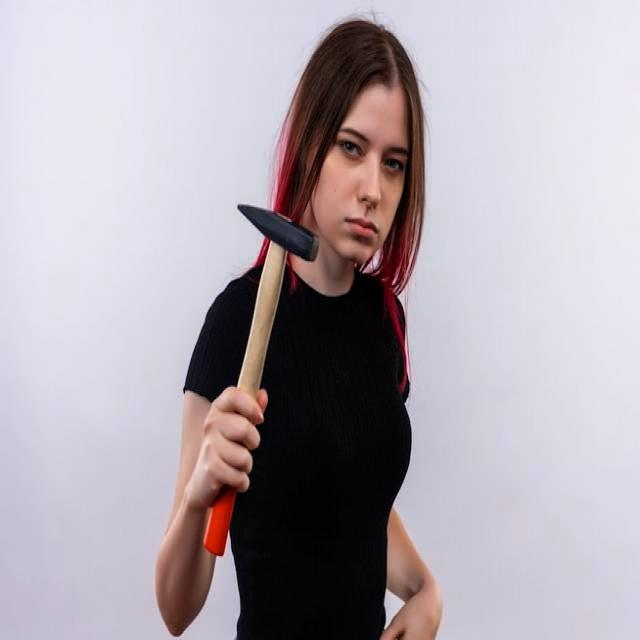hammer: (200, 198, 324, 562)
